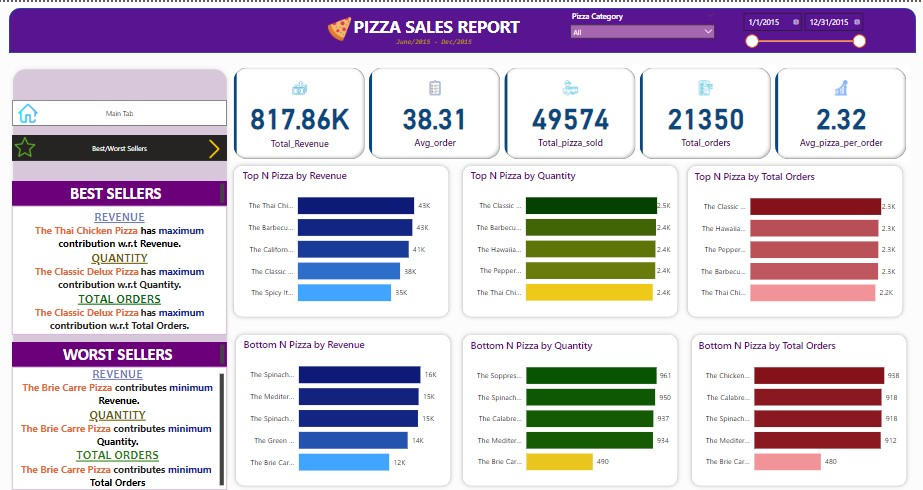

The dashboard page shown, as its layout file describes it:
{"tool":"powerbi","page":{"name":"Best/Worst Sellers","canvas":[1800,945],"ordinal":1},"visuals":[{"type":"shape","box":[23.2,121.9,429.7,822.6],"z":0},{"type":"cardVisual","fields":{"Data":["new_db pizza_sales.Total_Revenue","new_db pizza_sales.Avg_order","new_db pizza_sales.Total_pizza_sold","new_db pizza_sales.Total_orders","new_db pizza_sales.Avg_pizza_per_order"]},"box":[453.2,121.5,1315.3,187.1],"z":1000},{"type":"shape","box":[24.1,11.1,1755.6,87],"z":2000},{"type":"textbox","box":[667.9,18.9,366,52.8],"z":3000},{"type":"textbox","box":[752.8,62.3,184.9,35.8],"z":4000},{"type":"image","box":[632.1,22.6,60.4,58.5],"z":5000},{"type":"shape","box":[449.4,308.6,433.9,310.5],"z":6000},{"type":"textbox","box":[29,346.5,416.1,48.4],"z":7000},{"type":"textbox","box":[29,394.8,416.1,249],"z":8000},{"type":"textbox","box":[29,658.1,416.1,48.4],"z":9000},{"type":"textbox","box":[29.7,705.7,416.3,237.9],"z":10000},{"type":"slicer","fields":{"Values":["new_db pizza_sales.pizza_category"]},"box":[1099.4,11.6,300,87.1],"z":11000},{"type":"slicer","fields":{"Values":["new_db pizza_sales.order_date"]},"box":[1432.3,11.6,257.4,87.1],"z":12000},{"type":"shape","box":[892.9,308.6,433.9,310.5],"z":13000},{"type":"shape","box":[1326.9,308.6,433.9,310.5],"z":14000},{"type":"shape","box":[453.2,634.5,433.9,310.5],"z":15000},{"type":"shape","box":[1334.6,634.5,433.9,310.5],"z":16000},{"type":"shape","box":[892.9,634.5,433.9,310.5],"z":17000},{"type":"clusteredBarChart","title":"Top N Pizza by Revenue","fields":{"Category":["new_db pizza_sales.pizza_name"],"Y":["new_db pizza_sales.Total_Revenue"]},"box":[470.1,323.6,396.9,278.7],"z":18000},{"type":"clusteredBarChart","title":"Bottom N Pizza by Revenue","fields":{"Category":["new_db pizza_sales.pizza_name"],"Y":["new_db pizza_sales.Total_Revenue"]},"box":[472.5,649.9,397.3,279.6],"z":19000},{"type":"clusteredBarChart","title":"Top N Pizza by Quantity","fields":{"Category":["new_db pizza_sales.pizza_name"],"Y":["new_db pizza_sales.Total_pizza_sold"]},"box":[912.2,324,397.3,277.7],"z":20000},{"type":"clusteredBarChart","title":"Bottom N Pizza by Quantity","fields":{"Category":["new_db pizza_sales.pizza_name"],"Y":["new_db pizza_sales.Total_pizza_sold"]},"box":[911.6,652.3,398.7,276.8],"z":21000},{"type":"clusteredBarChart","title":"Top N Pizza by Total Orders","fields":{"Category":["new_db pizza_sales.pizza_name"],"Y":["new_db pizza_sales.Total_orders"]},"box":[1345.2,325.2,398.7,276.8],"z":22000},{"type":"clusteredBarChart","title":"Bottom N Pizza by Total Orders","fields":{"Category":["new_db pizza_sales.pizza_name"],"Y":["new_db pizza_sales.Total_orders"]},"box":[1352.9,652.3,398.7,276.8],"z":23000},{"type":"pageNavigator","box":[29,257.4,416.1,50.3],"z":24000},{"type":"pageNavigator","box":[29,189.7,416.1,50.3],"z":25000},{"type":"image","box":[396.8,257.4,48.4,54.2],"z":26000},{"type":"image","box":[29,191.6,61.9,48.4],"z":27000},{"type":"image","box":[29,253.5,50.3,54.2],"z":28000}]}

Visuals, with their boxes in screenshot pixels (x1, y1, x2, y2), scaled from the page's 1800x945 canvas onto the 923x490 screenshot:
shape: <region>12, 63, 232, 489</region>
cardVisual - new_db pizza_sales.Total_Revenue x new_db pizza_sales.Avg_order: <region>232, 63, 907, 160</region>
shape: <region>12, 6, 913, 51</region>
textbox: <region>342, 10, 530, 37</region>
textbox: <region>386, 32, 481, 51</region>
image: <region>324, 12, 355, 42</region>
shape: <region>230, 160, 453, 321</region>
textbox: <region>15, 180, 228, 205</region>
textbox: <region>15, 205, 228, 334</region>
textbox: <region>15, 341, 228, 366</region>
textbox: <region>15, 366, 229, 489</region>
slicer - new_db pizza_sales.pizza_category: <region>564, 6, 718, 51</region>
slicer - new_db pizza_sales.order_date: <region>734, 6, 866, 51</region>
shape: <region>458, 160, 680, 321</region>
shape: <region>680, 160, 903, 321</region>
shape: <region>232, 329, 455, 489</region>
shape: <region>684, 329, 907, 489</region>
shape: <region>458, 329, 680, 489</region>
"Top N Pizza by Revenue" clusteredBarChart: <region>241, 168, 445, 312</region>
"Bottom N Pizza by Revenue" clusteredBarChart: <region>242, 337, 446, 482</region>
"Top N Pizza by Quantity" clusteredBarChart: <region>468, 168, 671, 312</region>
"Bottom N Pizza by Quantity" clusteredBarChart: <region>467, 338, 672, 482</region>
"Top N Pizza by Total Orders" clusteredBarChart: <region>690, 169, 894, 312</region>
"Bottom N Pizza by Total Orders" clusteredBarChart: <region>694, 338, 898, 482</region>
pageNavigator: <region>15, 133, 228, 160</region>
pageNavigator: <region>15, 98, 228, 124</region>
image: <region>203, 133, 228, 162</region>
image: <region>15, 99, 47, 124</region>
image: <region>15, 131, 41, 160</region>
